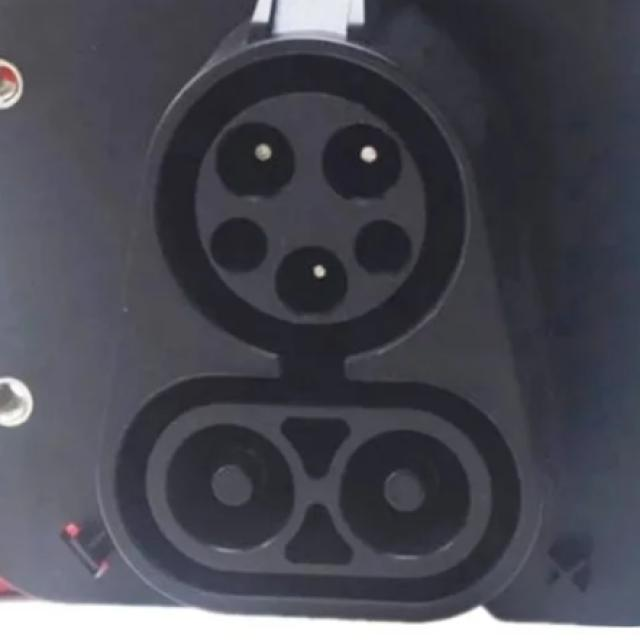CCS1: (66, 54, 582, 619)
